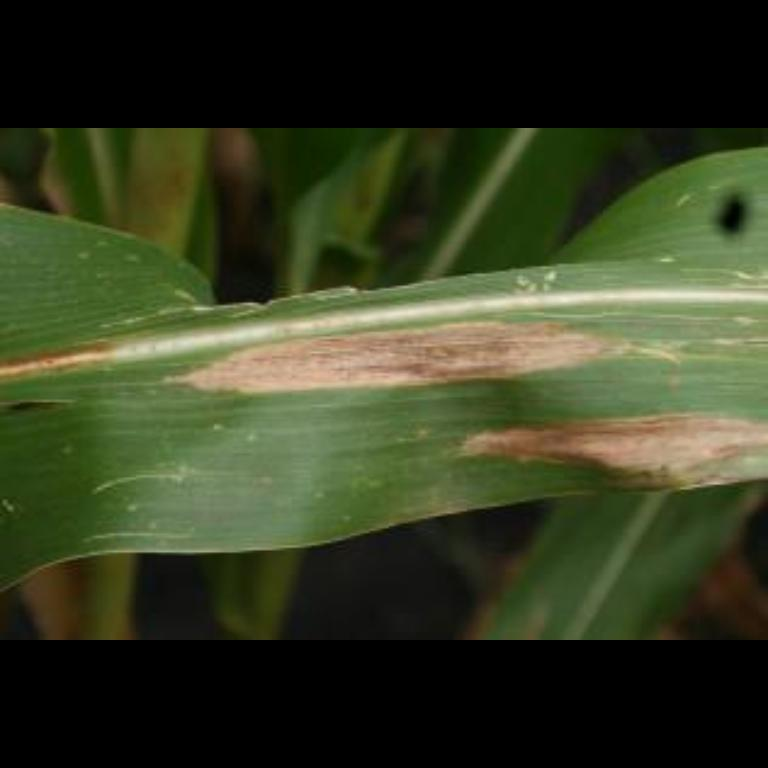blight: (187, 318, 602, 402)
